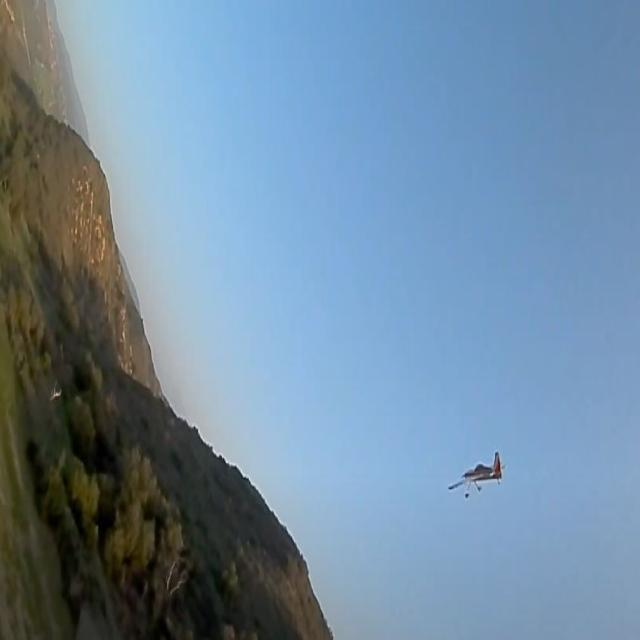iha: (448, 451, 506, 500)
